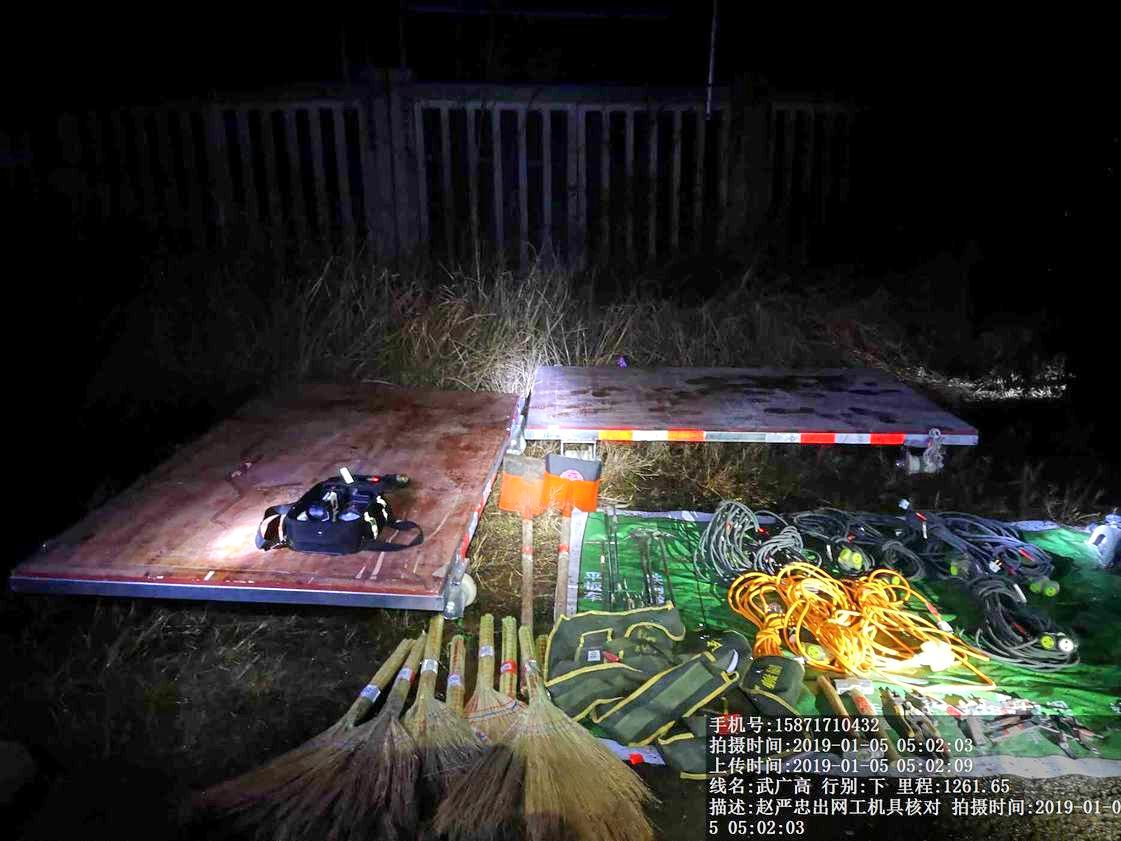DX: (961, 580, 1084, 674), (789, 568, 887, 677), (727, 571, 799, 655), (809, 507, 888, 571)
GJB: (254, 456, 443, 566), (547, 607, 686, 707)
SB: (236, 640, 415, 822)
TQ: (545, 452, 601, 618), (494, 447, 546, 624)
